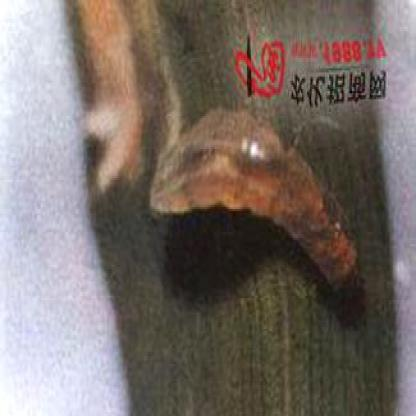whorl-maggot: (149, 109, 360, 296)
